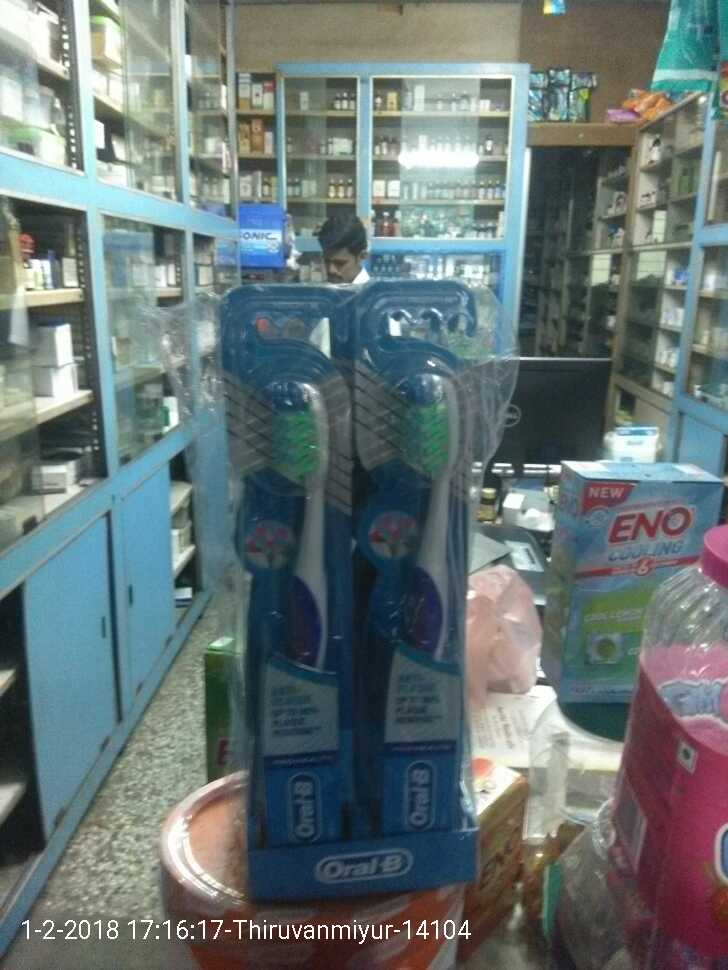oralb: (349, 333, 468, 836), (254, 361, 339, 858)
